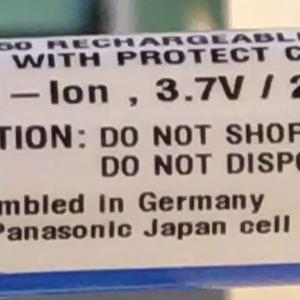keyword: (146, 65, 254, 112)
